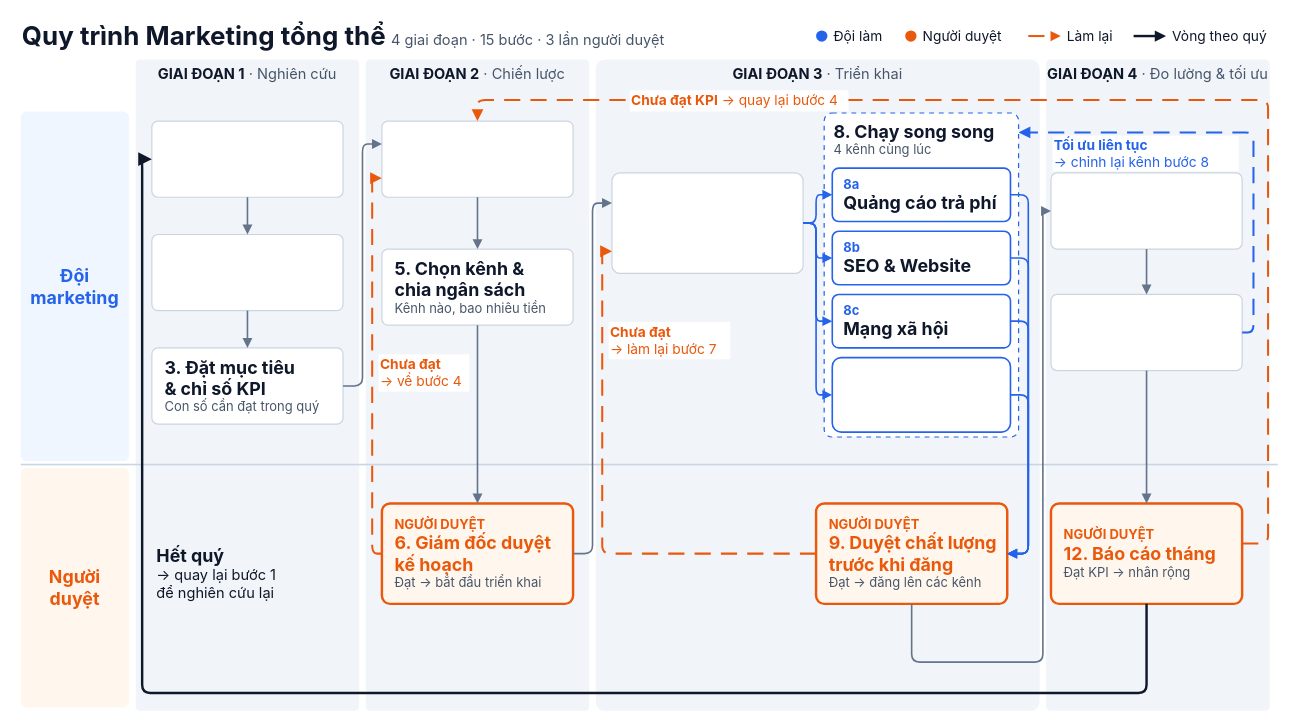
Image size: 1291x724. Some labels were removed from this diagram. The centre of each missing label's shape, as x and y in pixels:
"1. Phân tích thị trường & đối thủ Thị trường cần gì" goes at [247,158].
"10. Theo dõi số liệu hằng ngày Lượt xem, đơn hàng" goes at [1146,210].
"11. Thử nghiệm A/B & dời ngân sách Dồn tiền cho bản tốt hơn" goes at [1146,332].
"2. Vẽ chân dung khách hàng Khách là ai, cần gì" goes at [247,272].
"4. Định vị & thông điệp chính Mình khác đối thủ ở đâu" goes at [477,158].
"7. Sản xuất nội dung & hình ảnh quảng cáo Bài viết, ảnh, video" goes at [707,223].
"8d Email & chăm sóc khách" goes at [921,394].
